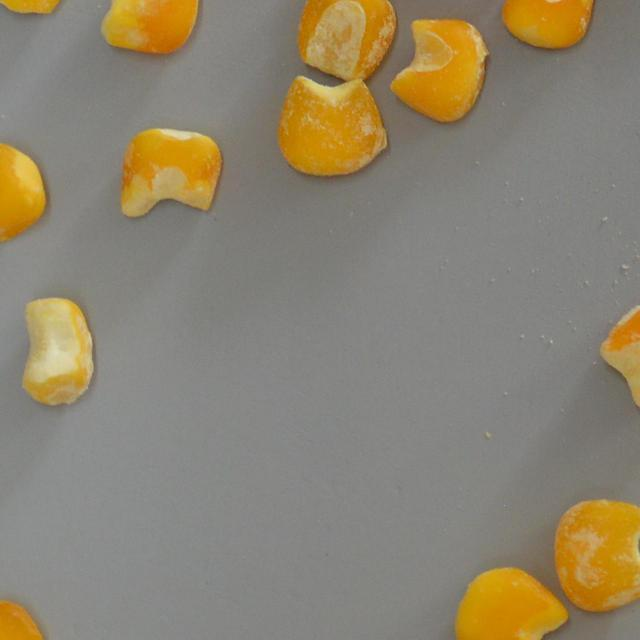no_canjicado: (456, 565, 560, 640), (100, 0, 200, 59), (500, 0, 594, 48), (0, 600, 48, 640), (0, 0, 76, 13)
pelicula: (275, 73, 388, 178), (388, 16, 490, 123), (551, 498, 640, 614), (120, 127, 222, 218), (20, 296, 94, 408), (296, 0, 396, 80), (597, 298, 640, 410), (0, 141, 46, 242)
